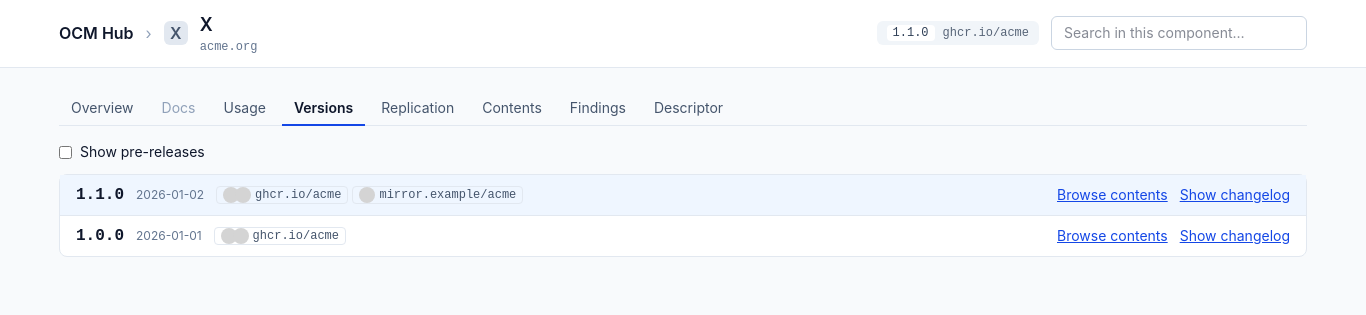
Test: pre-releases appear with the toggle and are tagged
Click the checkbox labelled "Show pre-releases" at (66, 152), box [59,146,72,158]
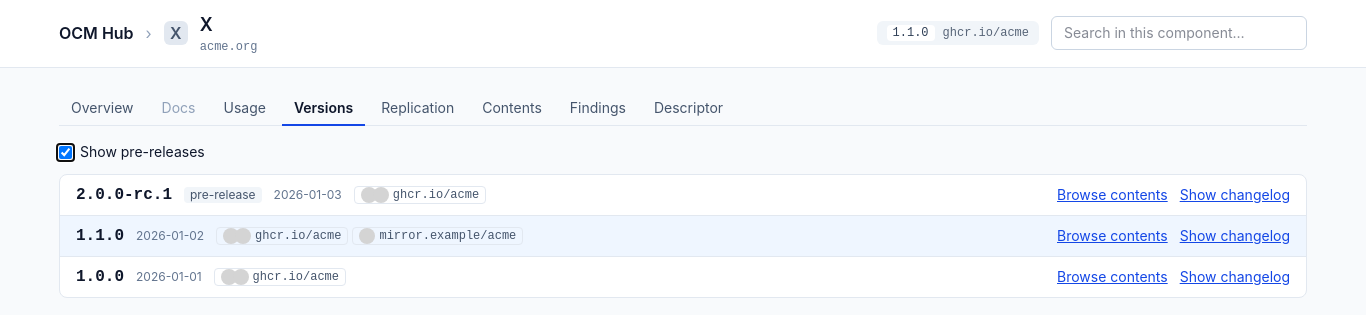
Now the text "pre-release" is shown, box [184,187,262,203]
